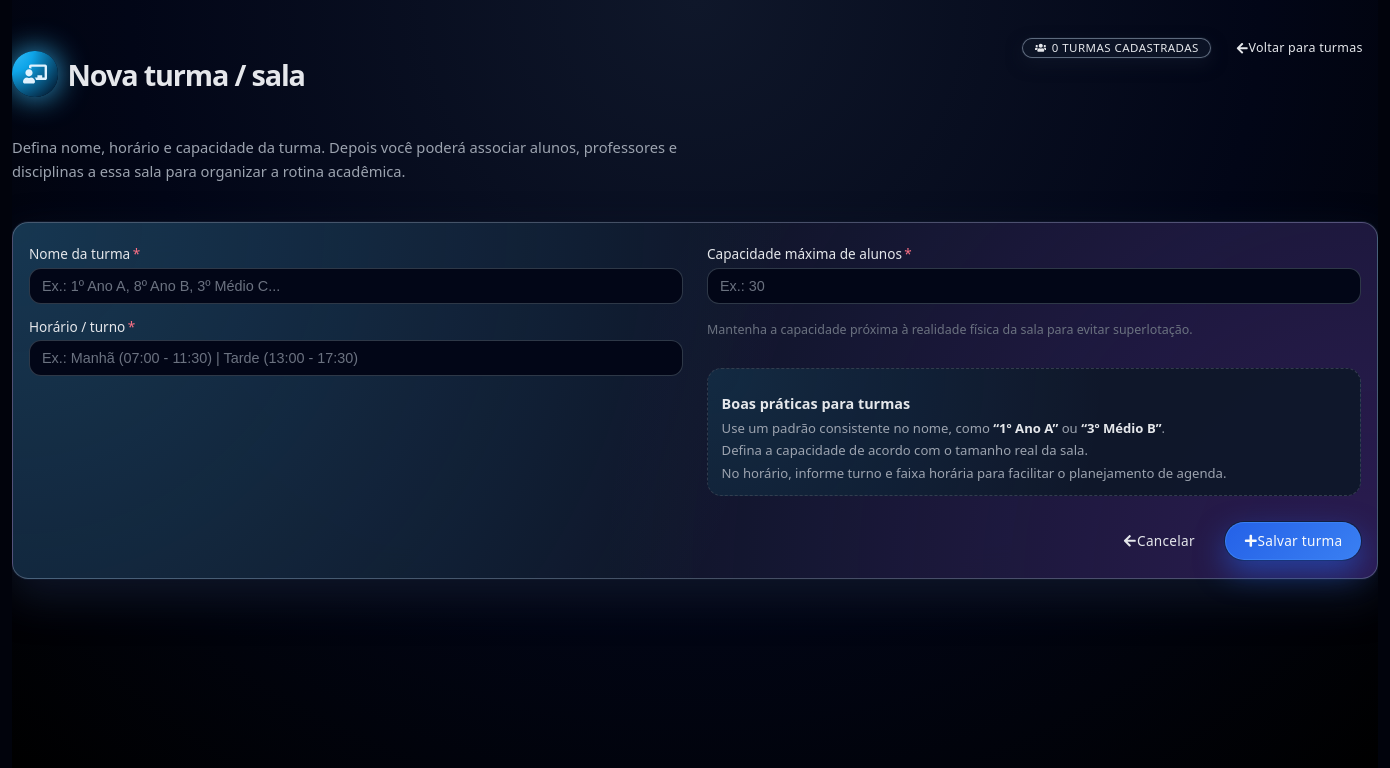
Test: ClassRoomCreatePage (dashboard) › exibe mensagens de erro quando campos obrigatórios estão vazios
The image size is (1390, 768).
What coordinates should you click on to do the following:
click the button "Salvar turma"
I would click on:
 (1293, 541)
Its box is [1225, 522, 1361, 560].
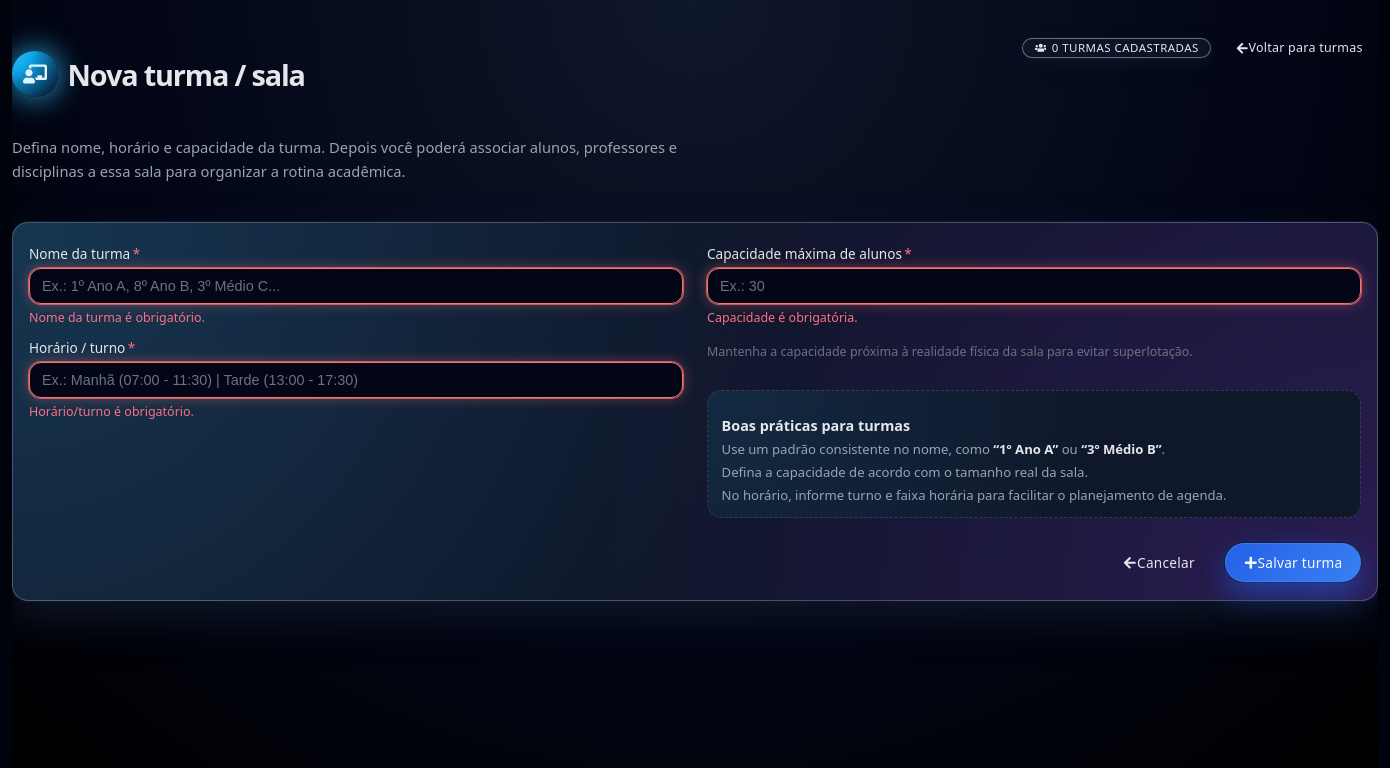
Now the text "Nome da turma é obrigatório." is shown, box [29, 309, 205, 326]
Now the text "Horário/turno é obrigatório." is shown, box [29, 403, 194, 420]
Now the text "Capacidade é obrigatória." is shown, box [707, 309, 858, 326]
